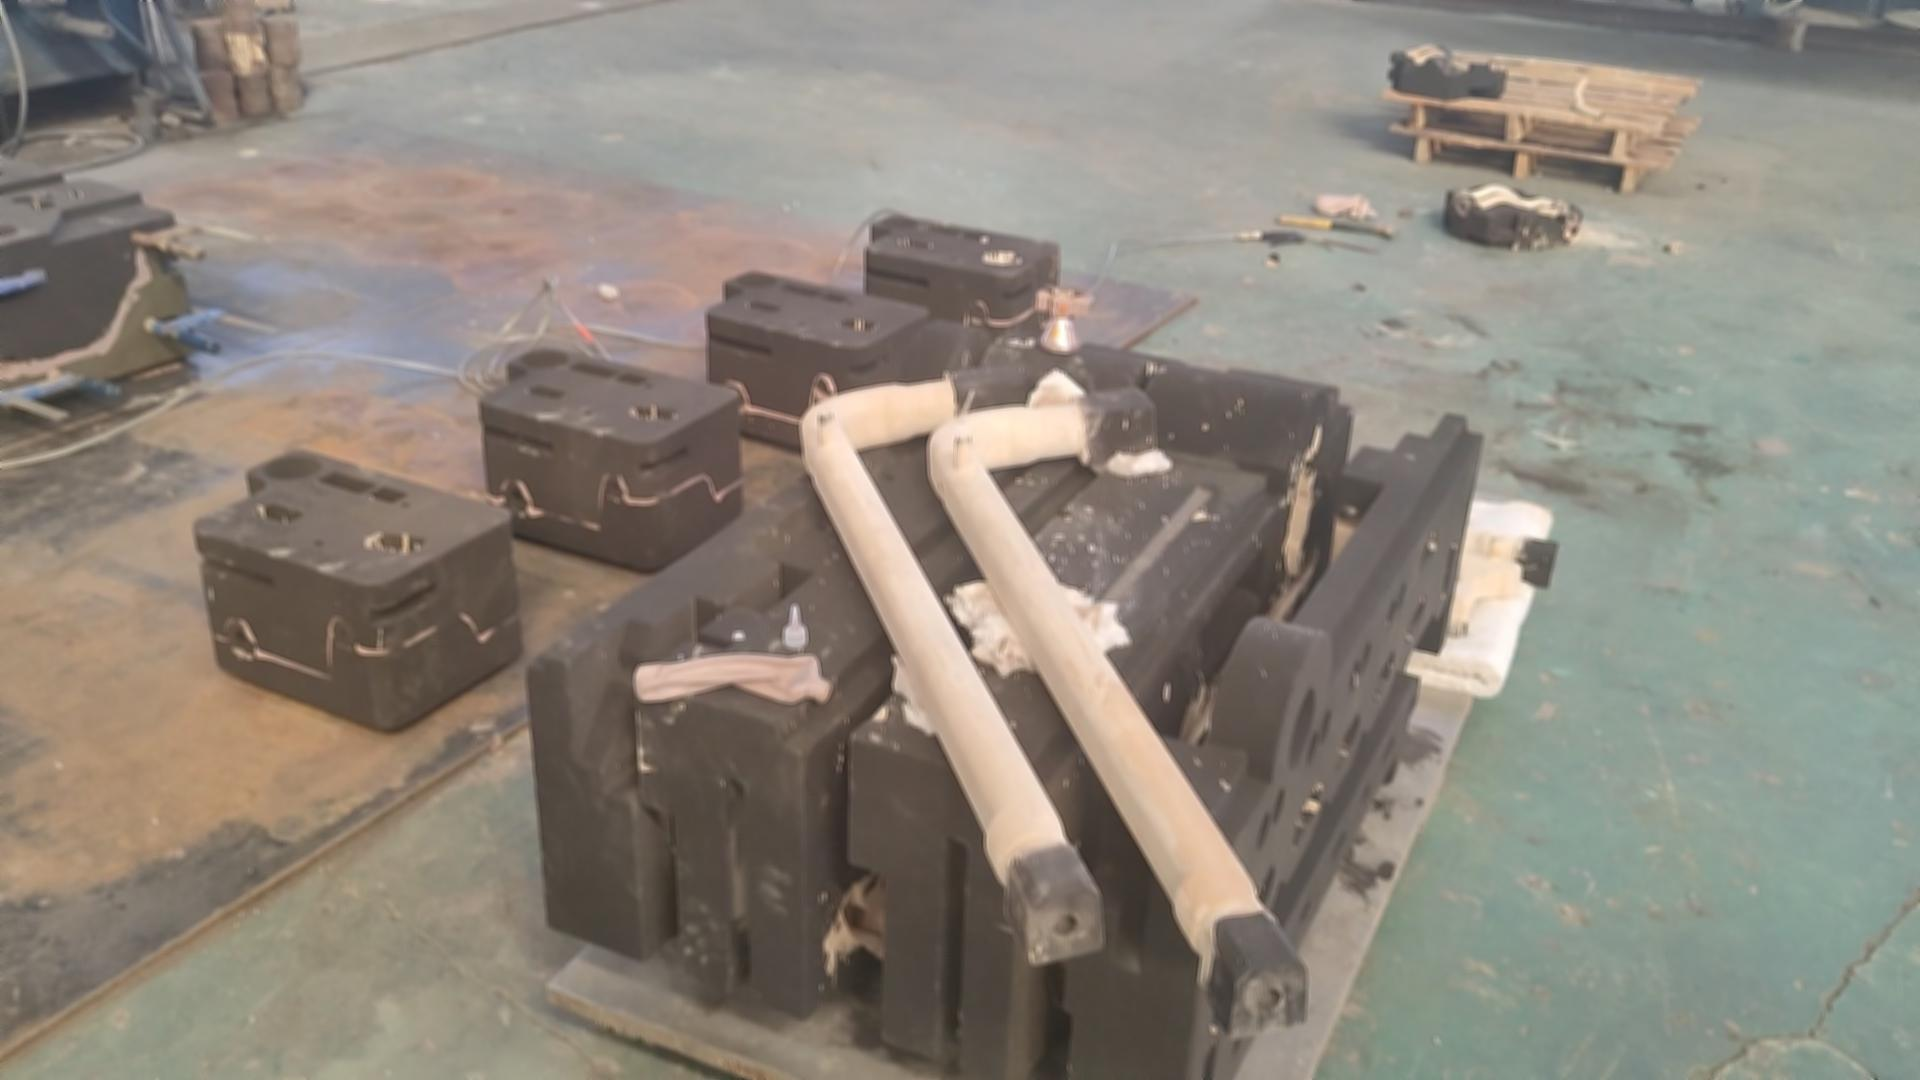pouring hole: (1288, 688, 1316, 771), (262, 456, 320, 479), (520, 349, 568, 367), (735, 272, 777, 287), (878, 216, 919, 228), (1, 223, 18, 237)
